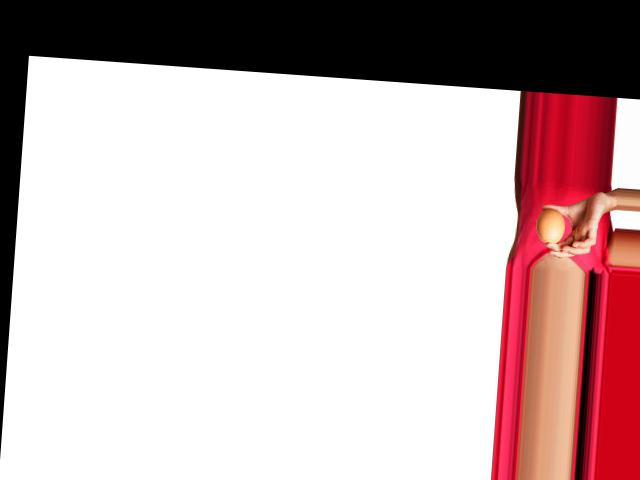egg: (535, 207, 566, 245)
